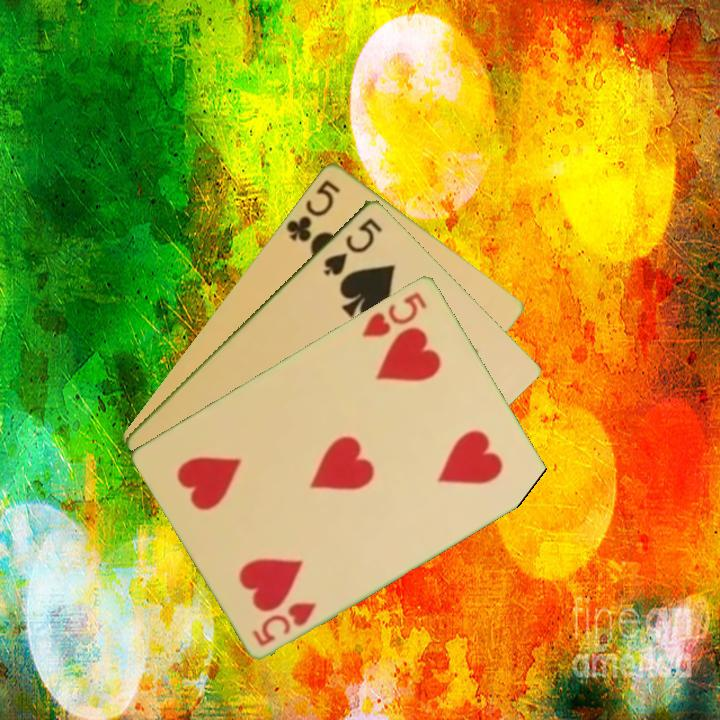5c: (282, 175, 343, 244)
5h: (358, 287, 430, 340), (249, 598, 320, 649)
5s: (320, 213, 386, 279)
